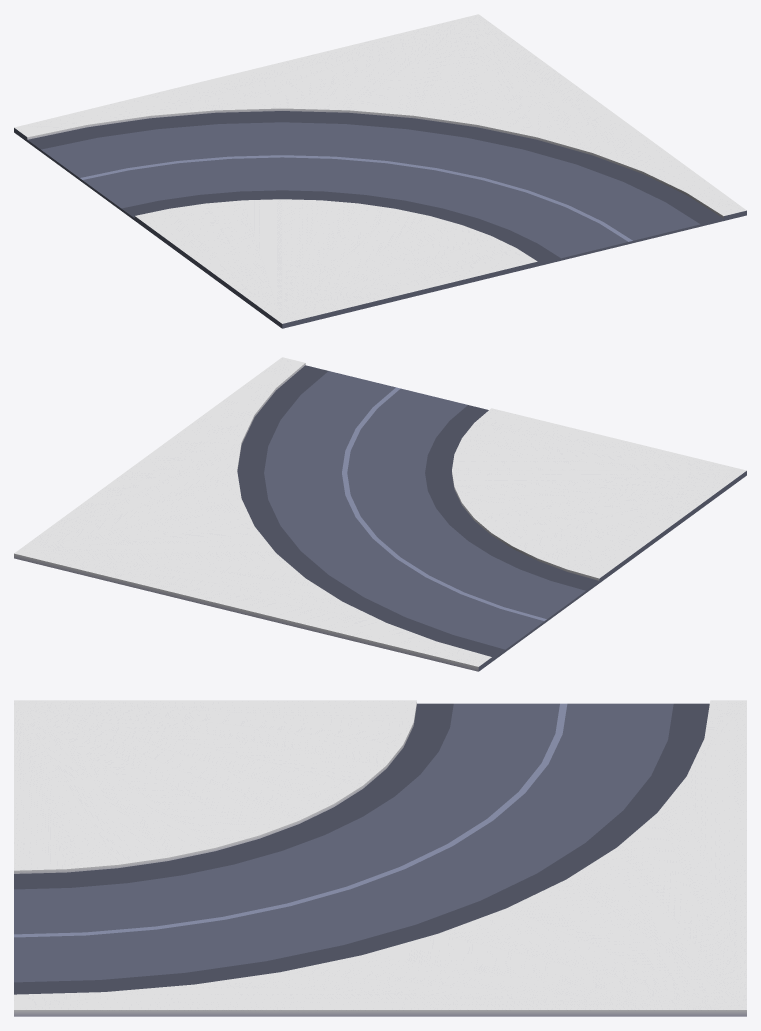
Rendered from road-curve-pavement.glb.
The picture shows the model from 3 angles, top to bottom: view 1: azimuth 30°, elevation 25°; view 2: azimuth 150°, elevation 25°; view 3: azimuth 270°, elevation 25°; orthographic projection. The views are drawn at different scales.
Parts seen in each view (by area): view 1: road-curve-pavement; view 2: road-curve-pavement; view 3: road-curve-pavement.
Boxes of the visible parts, x1,y1,x2,y2 form: road-curve-pavement: [14, 14, 746, 328]; road-curve-pavement: [14, 357, 746, 671]; road-curve-pavement: [14, 700, 746, 1016].
Size of the model in its own units: 2 by 0.02 by 2.
1 material, 1 textured.
